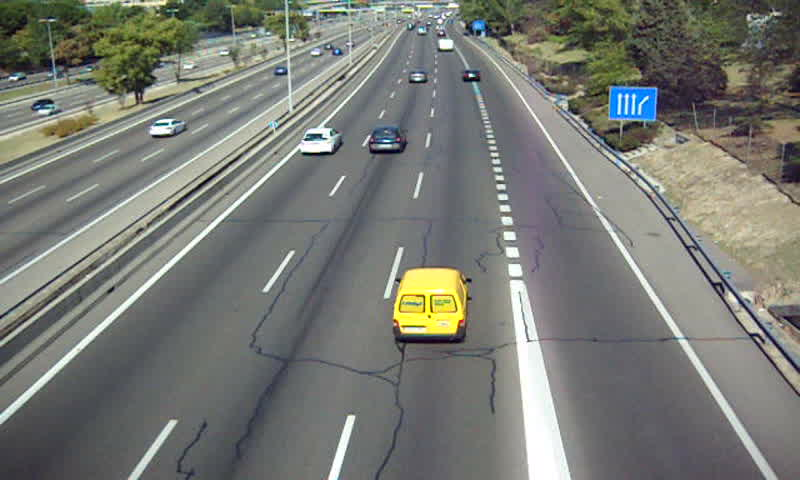car: (300, 127, 342, 154), (369, 127, 405, 153), (408, 69, 428, 84), (462, 69, 482, 83)
van: (393, 269, 467, 341)
